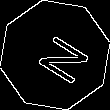N_NW: (23, 25, 87, 85)
